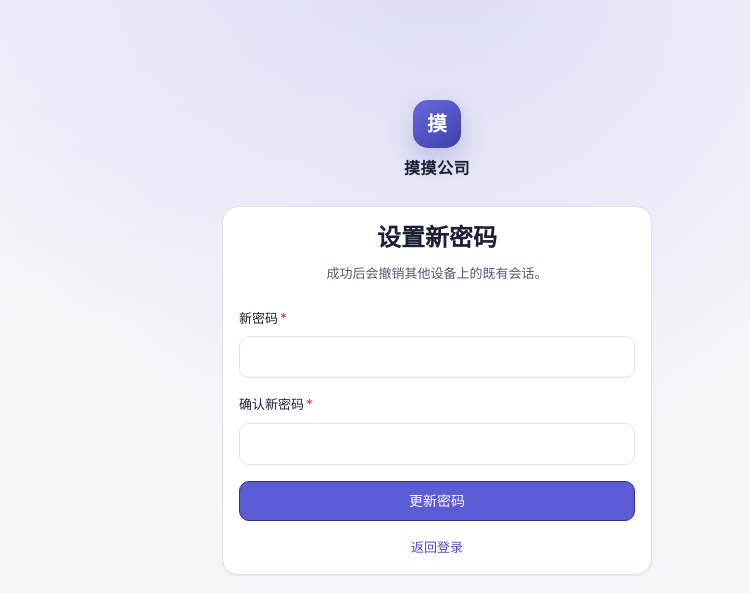
it: community password reset pages › submits the token and validated newPassword field
Type "secure-office-123" into the password field labelled "新密码*" at x=437, y=357, box [239, 336, 635, 378]
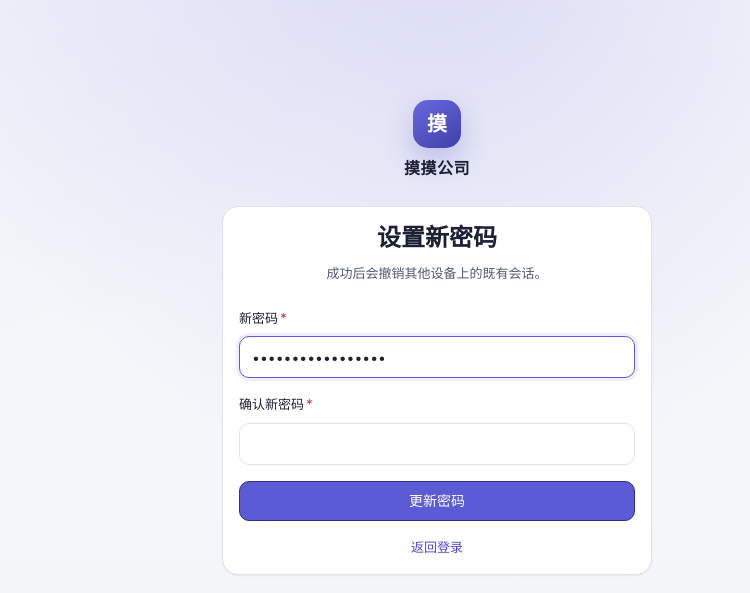
Type "secure-office-123" into the password field labelled "确认新密码*" at x=437, y=444, box [239, 423, 635, 465]
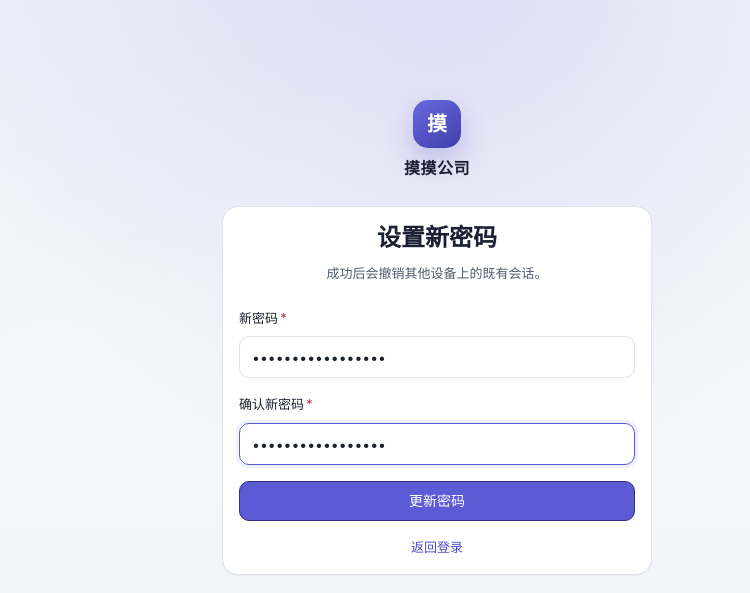
Click the button "更新密码" at x=437, y=501, box [239, 481, 635, 521]
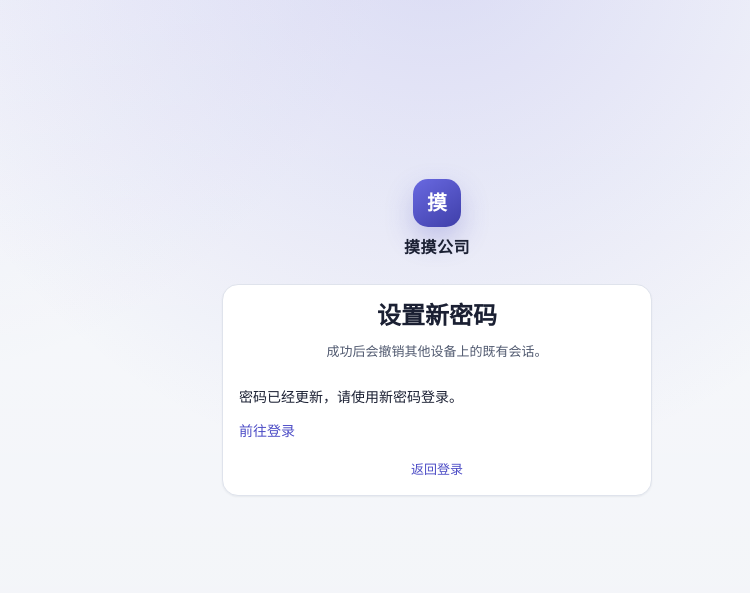
Expected: the message shows "密码已经更新", [239, 388, 463, 405]
